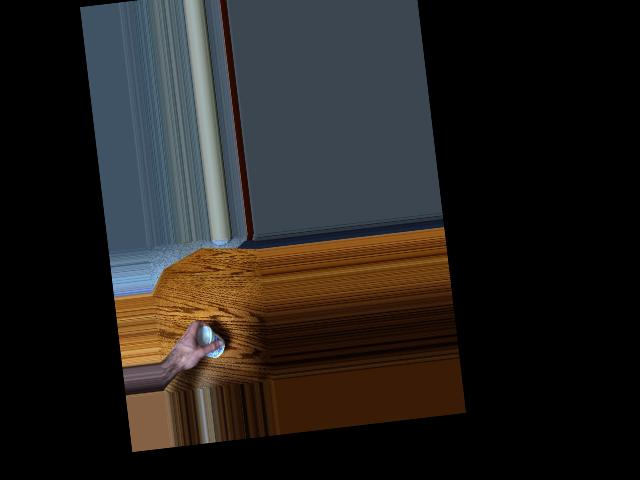cotage: (192, 316, 227, 356)
